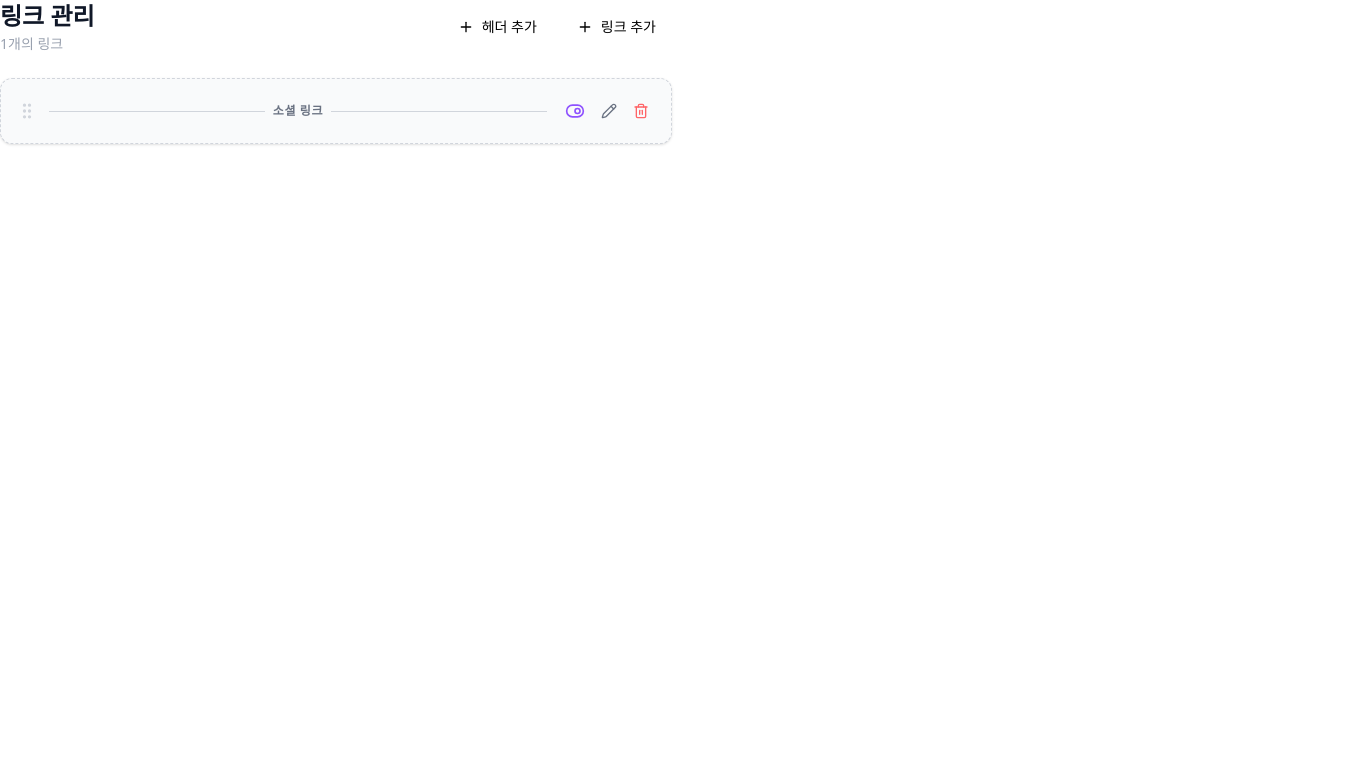
Scenario: LinkType - 헤더 타입 링크 › 헤더 유형 선택 시 URL 필드가 숨겨진다
Step 1. Click the button "링크 추가" → (616, 27), box [561,7,672,47]
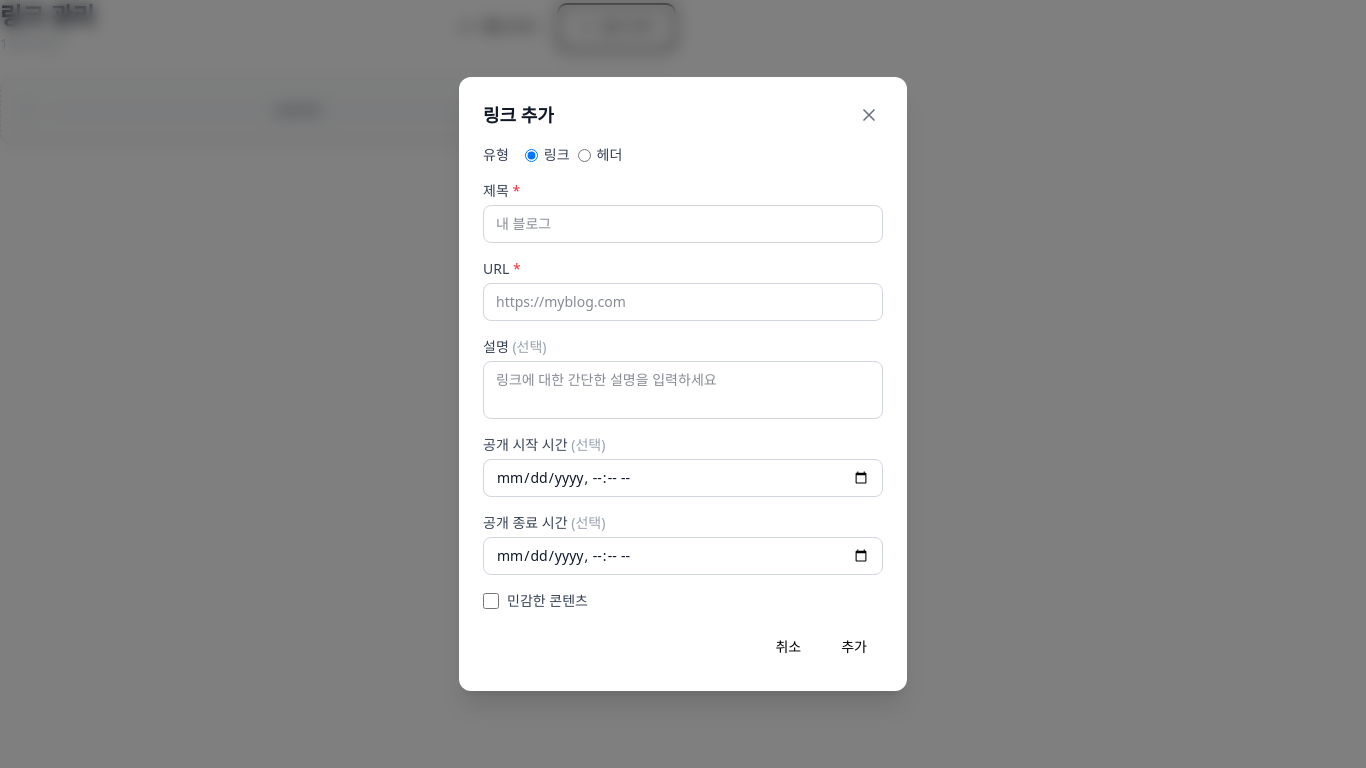
Step 2. Click the radio button showing "header" → (584, 155), box [578,148,590,162]
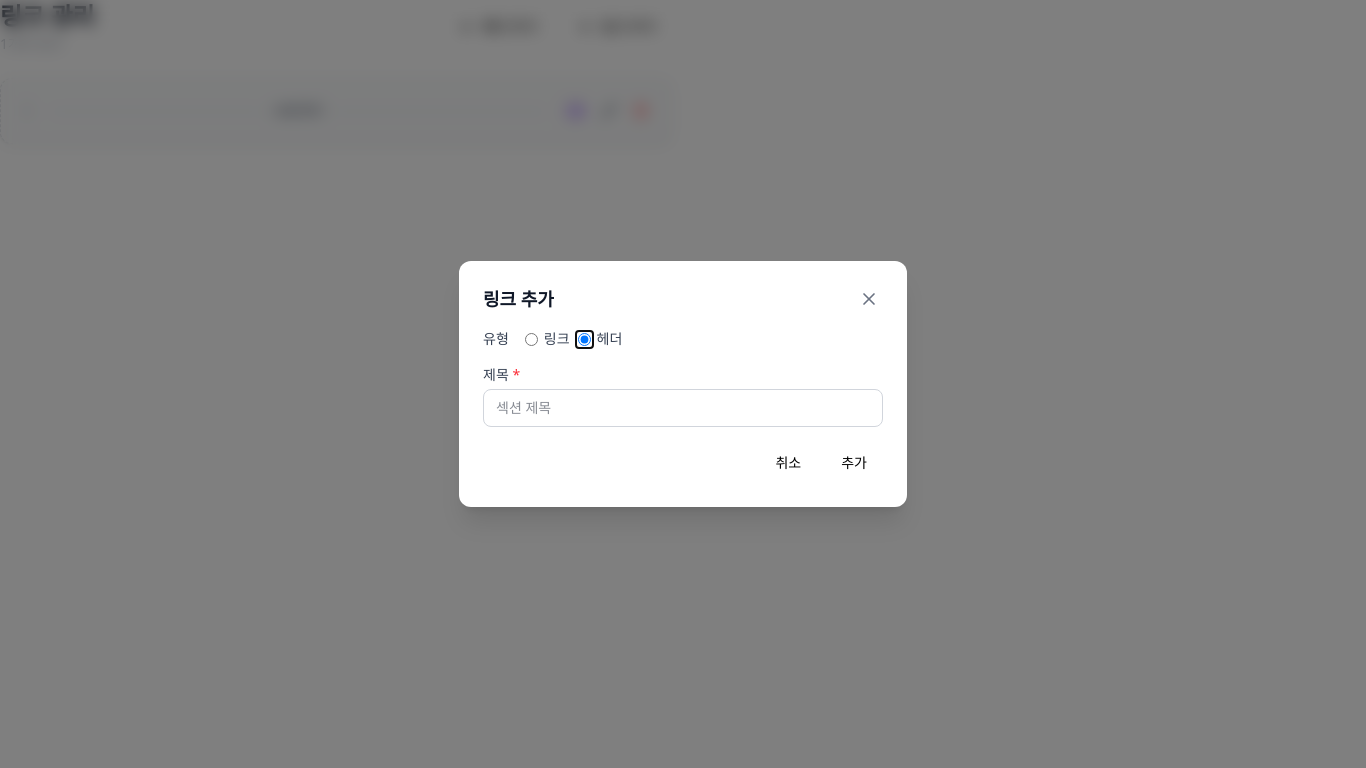
Check: the label labelled "URL" is gone
